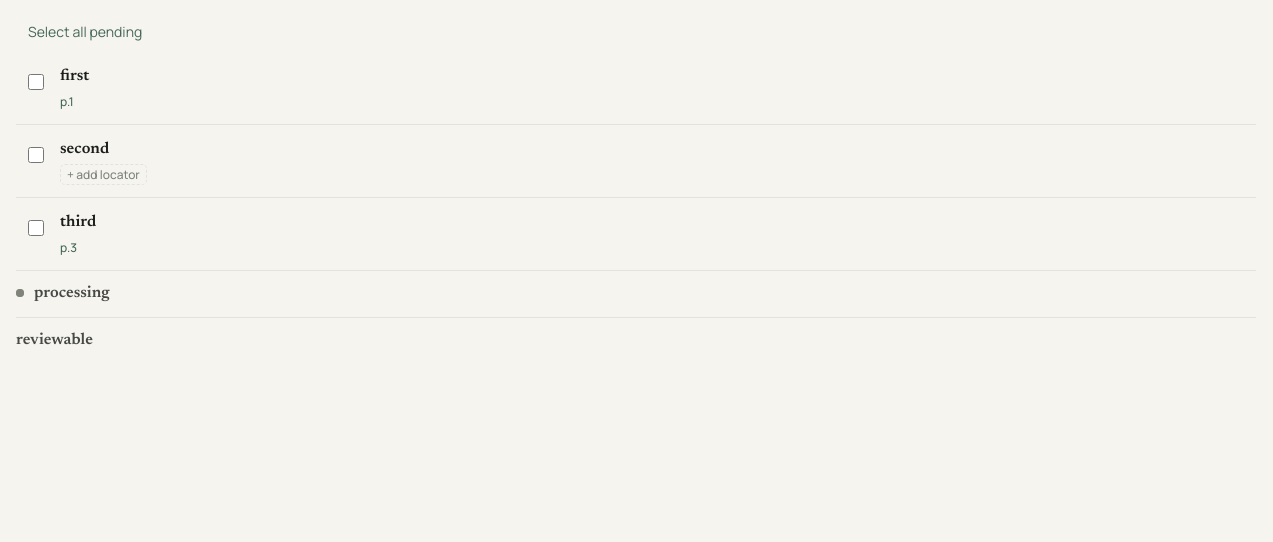
Scenario: Capture-only Pending Capture selection › selects and deselects useful subsets, with select-all restricted to Pending Captures
The width and height of the screenshot is (1273, 542).
Click the checkbox named "Select first".
click(36, 82)  # box [28,74,44,90]
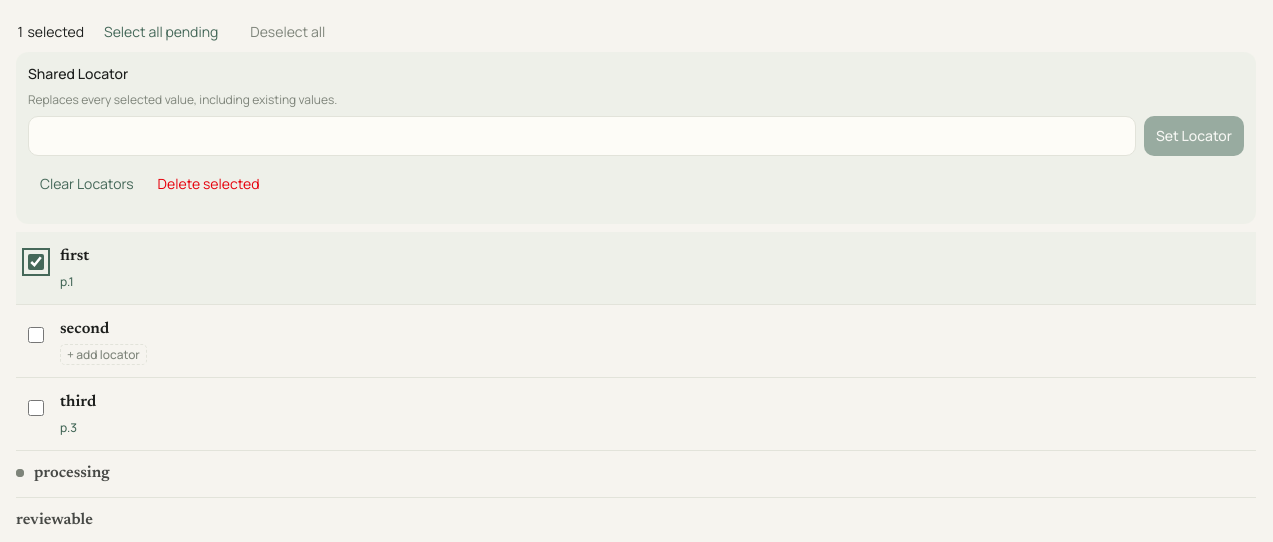
Click the checkbox named "Select third".
click(36, 408)  # box [28,400,44,416]
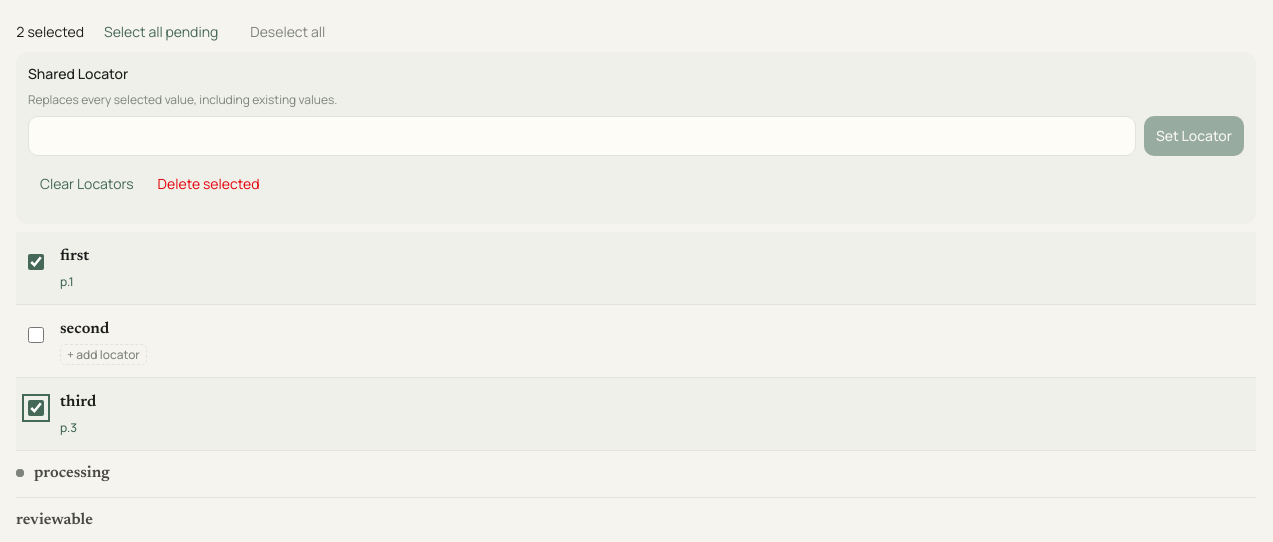
Now the text "2 selected" is shown, box [16,22,84,42]
Click the checkbox named "Select first".
click(36, 262)  # box [28,254,44,270]
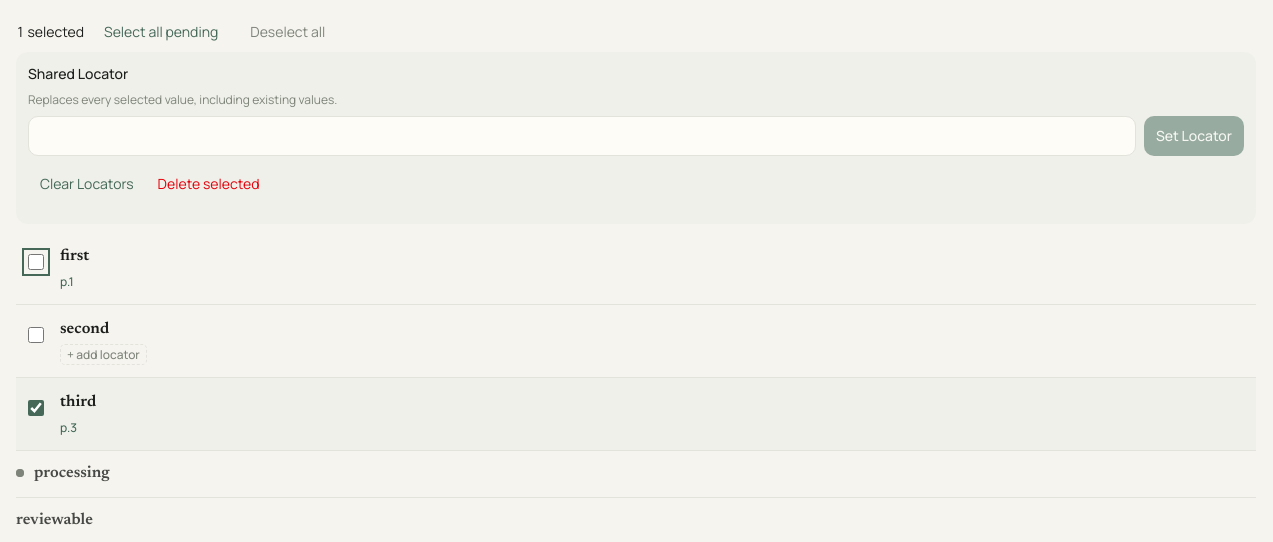
Now the text "1 selected" is shown, box [16,22,84,42]
Click the button "Select all pending".
click(161, 32)  # box [92,12,230,52]
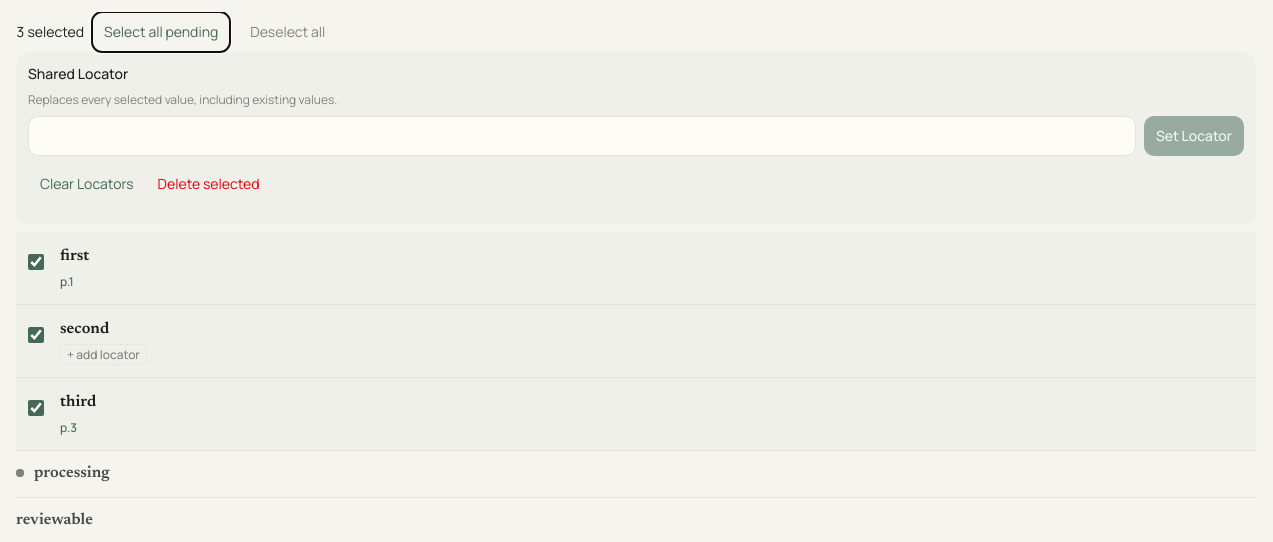
Now the text "3 selected" is shown, box [16,22,84,42]
Click the button "Deselect all".
click(288, 32)  # box [238,12,337,52]
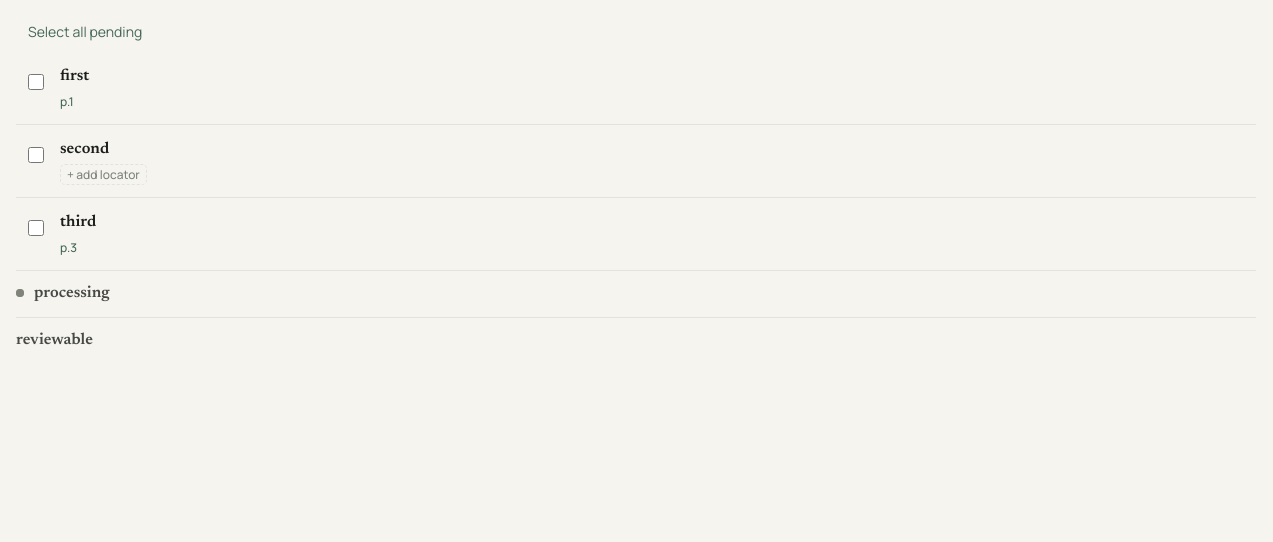
Now the checkbox named "Select first" is not checked, box [28,74,44,90]
Now the checkbox named "Select third" is not checked, box [28,220,44,236]
Now the checkbox named "Select second" is not checked, box [28,147,44,163]
